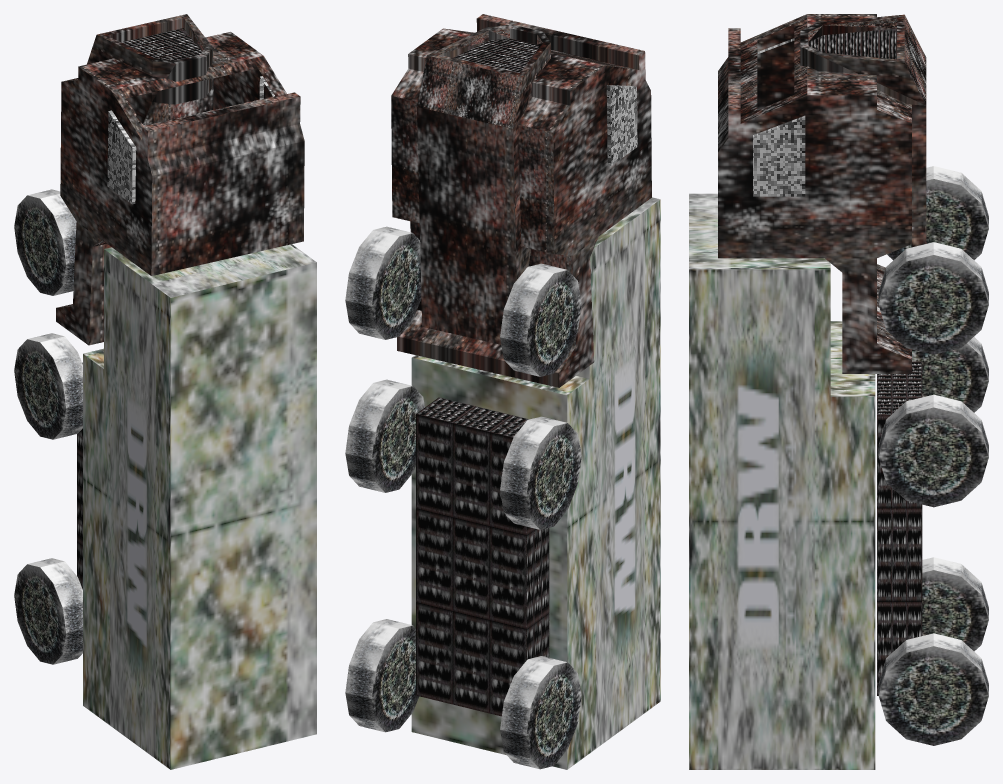
Rendered from Truck6wheelersnowed_wtf.obj.
3 views of the same model, side by side, from view 1: azimuth 30°, elevation 25°; view 2: azimuth 150°, elevation 25°; view 3: azimuth 270°, elevation 25° (orthographic). The views are drawn at different scales.
Visible parts, largest first — view 1: group20, group22, group11, group5, group18, group4, group10, group23, group17, group16, group21; view 2: group22, group20, group21, group5, group18, group11, group14, group8, group2, group17, group1, group10 (+5 smaller); view 3: group20, group22, group21, group3, group15, group9, group6, group23, group19, group12, group16, group1 (+4 smaller).
Boxes of the visible parts, bbox=[...] form: group20: bbox=[83, 244, 316, 769]; group22: bbox=[56, 14, 304, 345]; group11: bbox=[14, 339, 65, 439]; group5: bbox=[14, 564, 65, 664]; group18: bbox=[14, 195, 65, 295]; group4: bbox=[27, 558, 82, 664]; group10: bbox=[27, 333, 82, 439]; group23: bbox=[107, 76, 274, 204]; group17: bbox=[28, 189, 76, 295]; group16: bbox=[121, 28, 201, 60]; group21: bbox=[77, 362, 82, 589]; group22: bbox=[391, 14, 651, 387]; group20: bbox=[411, 197, 660, 769]; group21: bbox=[416, 397, 549, 716]; group5: bbox=[526, 662, 581, 769]; group18: bbox=[526, 270, 581, 376]; group11: bbox=[526, 423, 581, 529]; group14: bbox=[371, 233, 421, 339]; group8: bbox=[371, 386, 424, 492]; group2: bbox=[371, 625, 419, 732]; group17: bbox=[500, 263, 566, 376]; group1: bbox=[345, 619, 412, 731]; group10: bbox=[500, 416, 566, 529]; group20: bbox=[689, 193, 875, 769]; group22: bbox=[718, 14, 926, 373]; group21: bbox=[877, 361, 922, 695]; group3: bbox=[878, 646, 988, 745]; group15: bbox=[878, 255, 988, 354]; group9: bbox=[878, 407, 988, 507]; group6: bbox=[922, 570, 988, 651]; group23: bbox=[753, 38, 805, 196]; group19: bbox=[887, 179, 988, 260]; group12: bbox=[912, 343, 988, 412]; group16: bbox=[808, 28, 896, 59]; group1: bbox=[878, 633, 988, 695].
Bounding box in the file's own units: 180 × 660 × 259.
